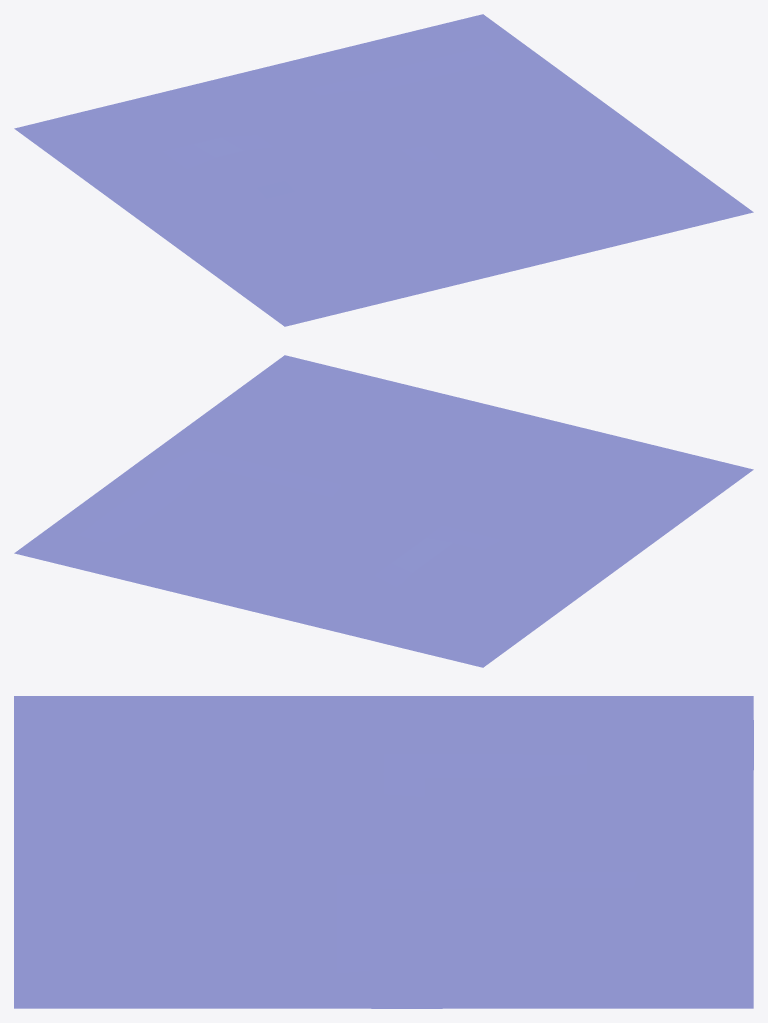
File: waterfall.fbx
3 renders of one model, top to bottom at view 1: azimuth 30°, elevation 25°; view 2: azimuth 150°, elevation 25°; view 3: azimuth 270°, elevation 25°, orthographic. The views are drawn at different scales.
Visible parts, largest first — view 1: Plane; view 2: Plane; view 3: Plane.
Part boxes in pixels (x1,y1,x2,y2): Plane: (14, 14, 753, 326); Plane: (14, 355, 753, 667); Plane: (14, 696, 753, 1008).
Bounding box in the file's own units: 1500 × 0.6825 × 1500.
